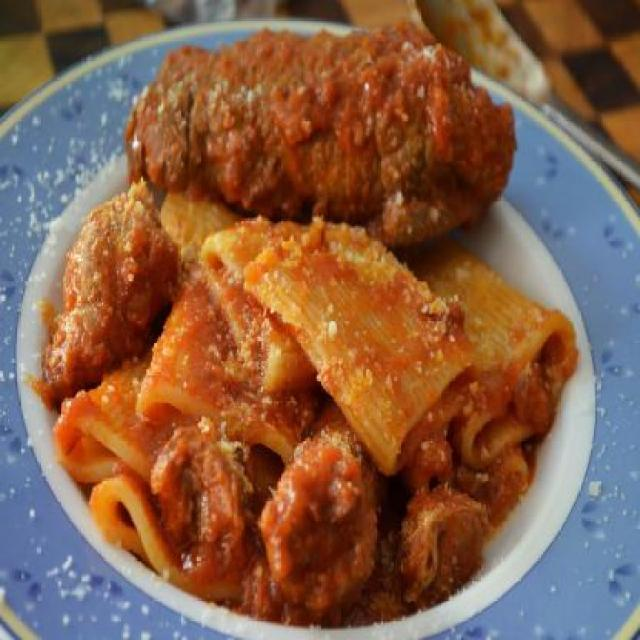Pasta al ragu: (37, 34, 603, 566)
